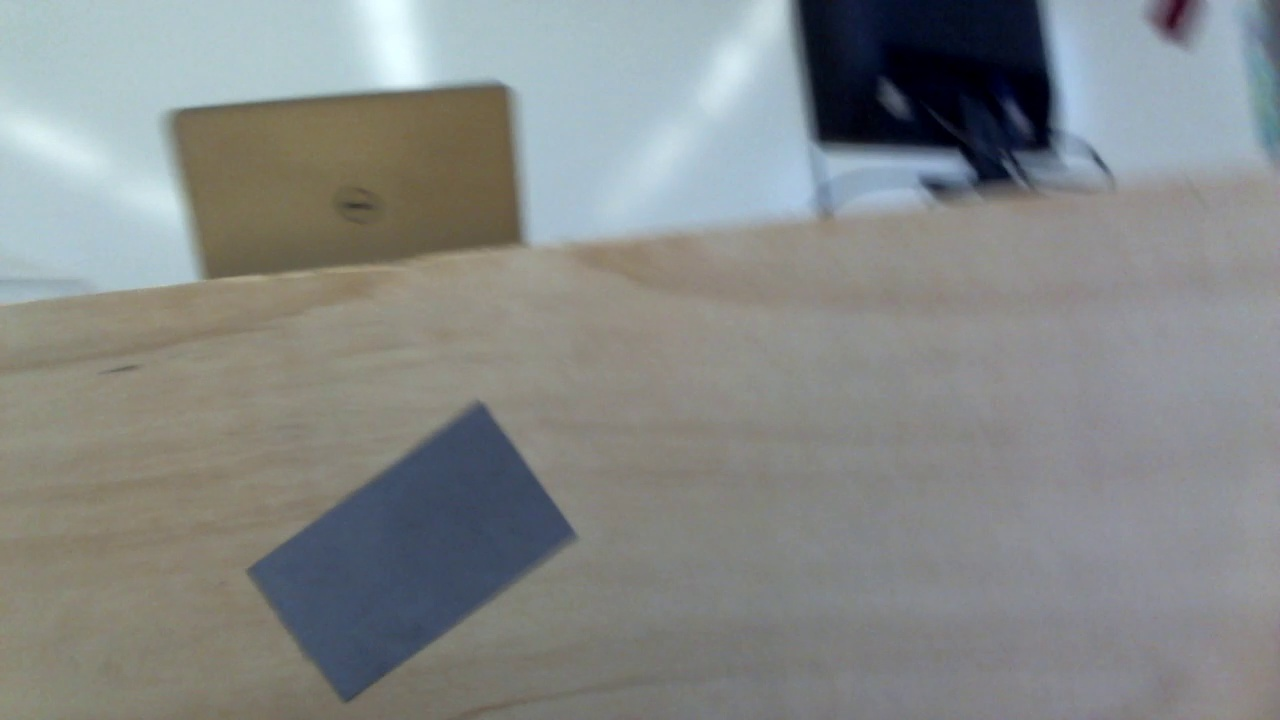Tape: (248, 399, 583, 707)
